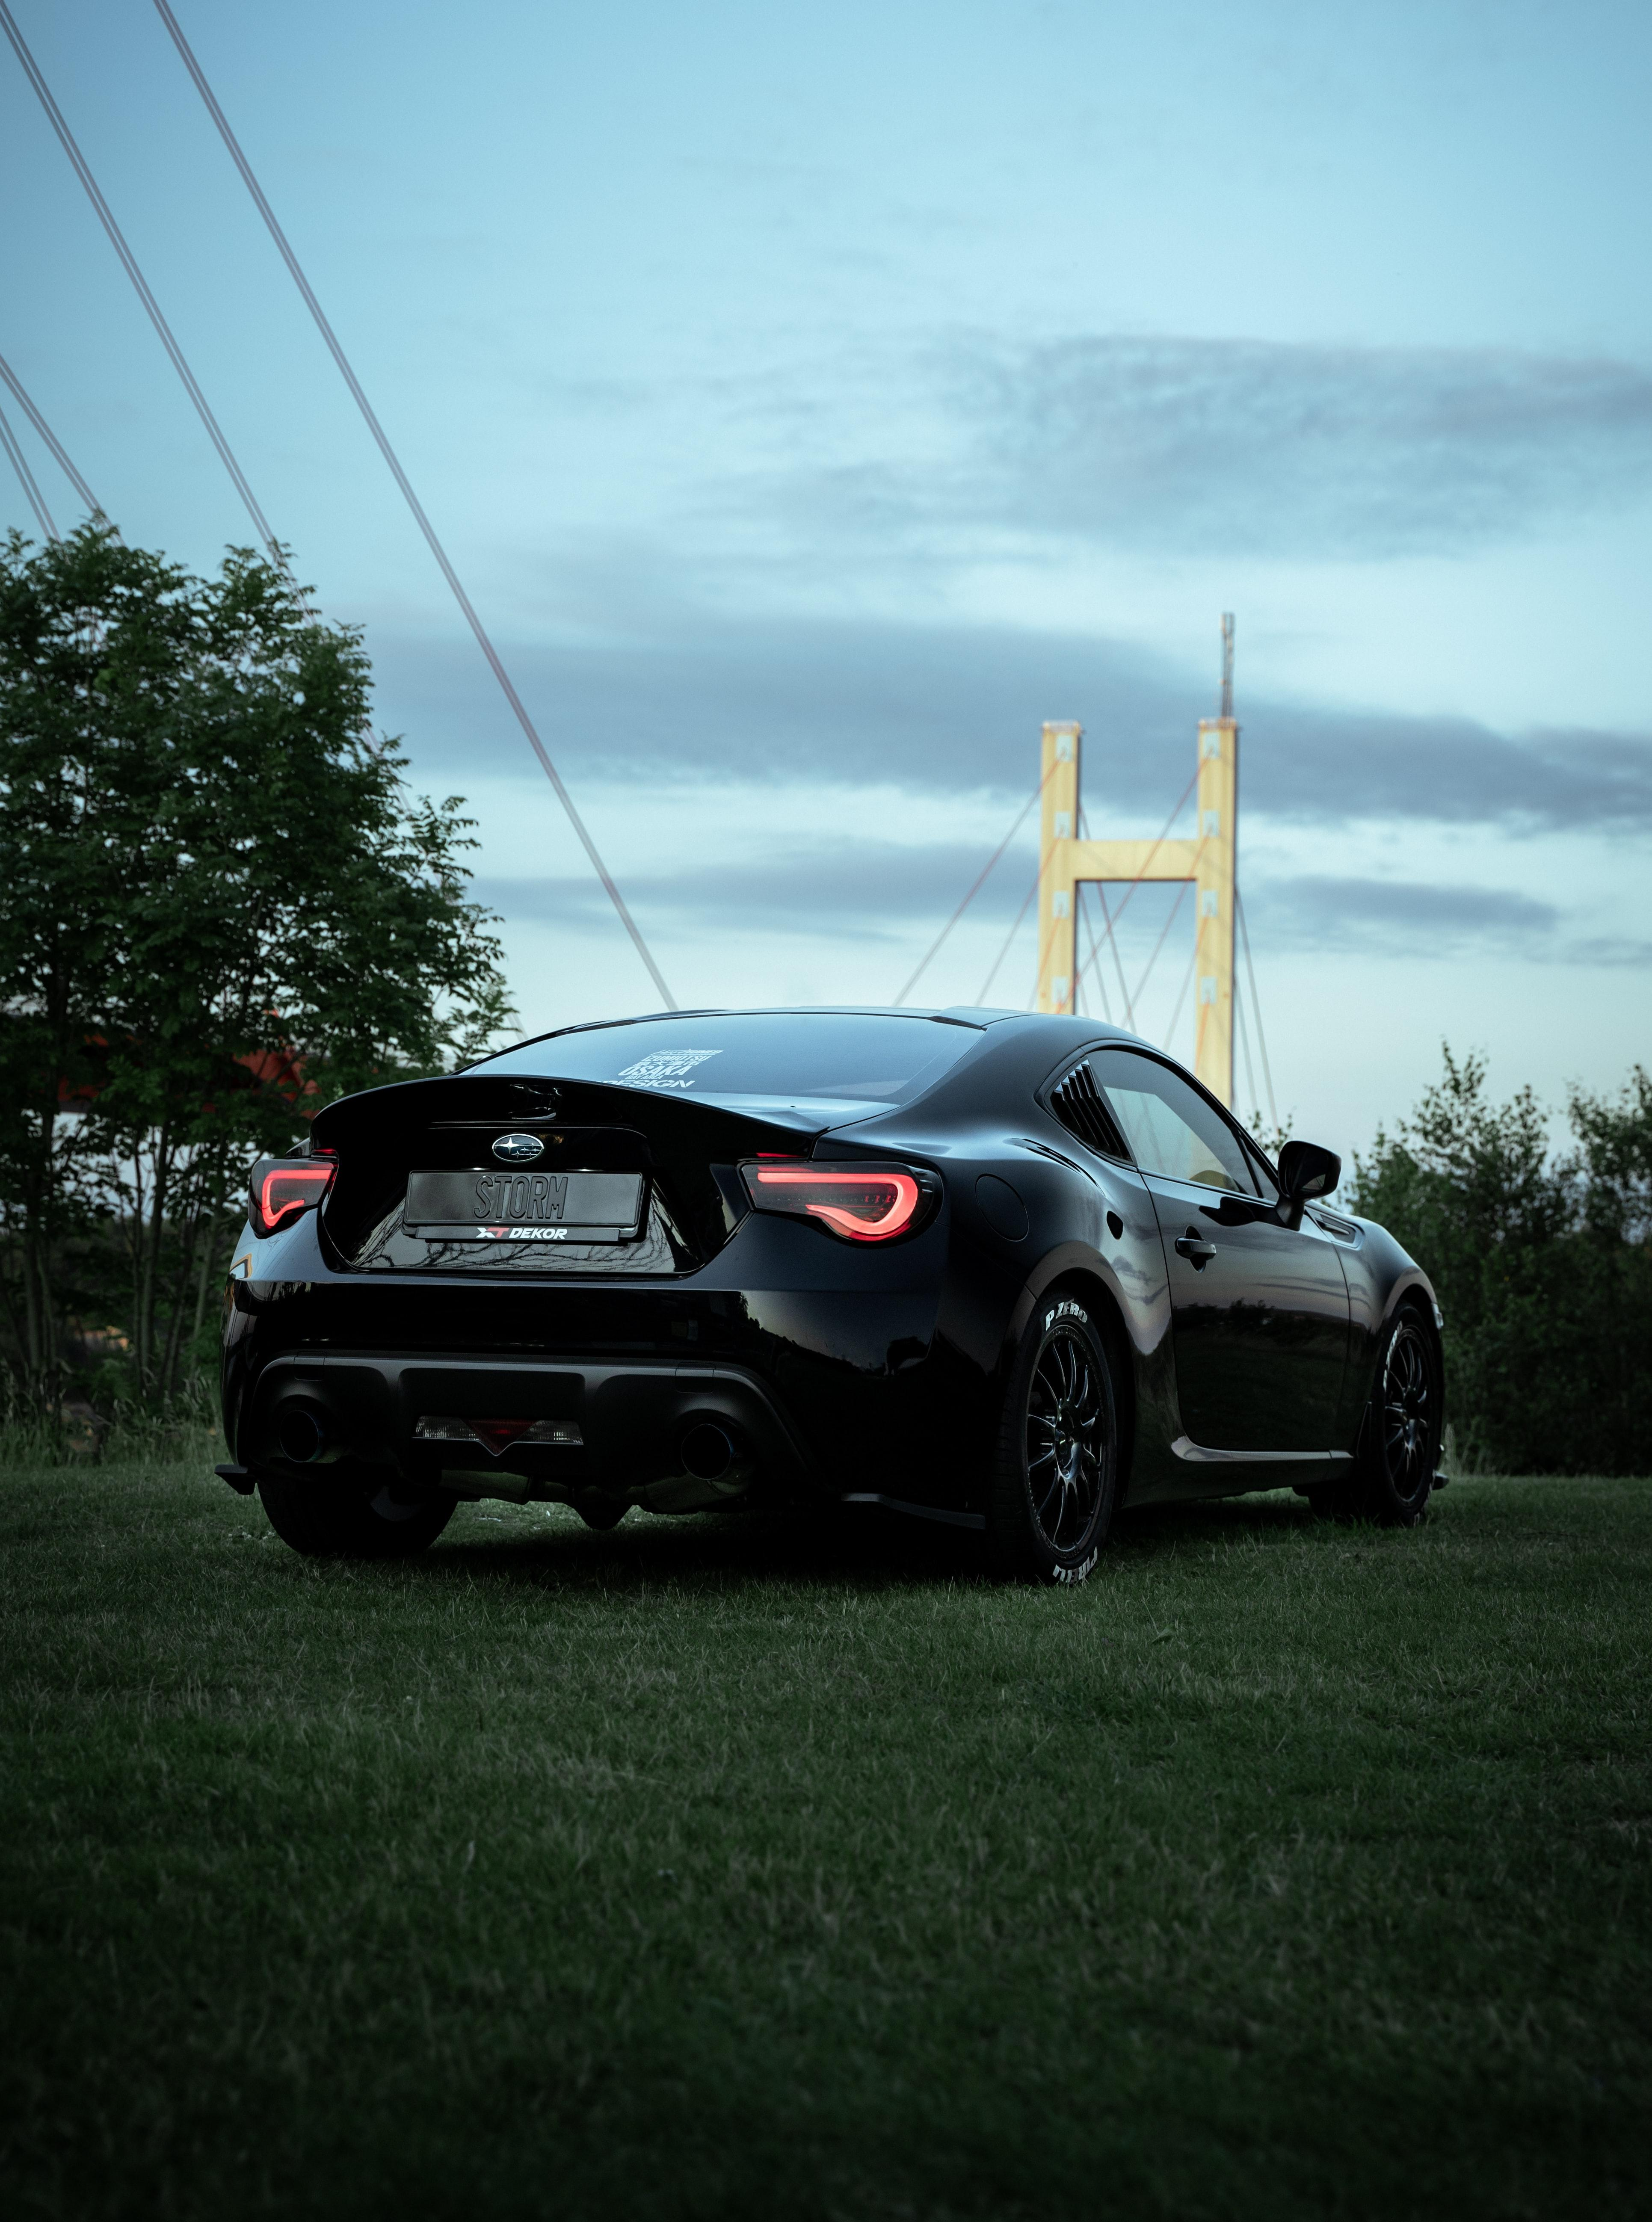subaru: (463, 1105, 564, 1192)
